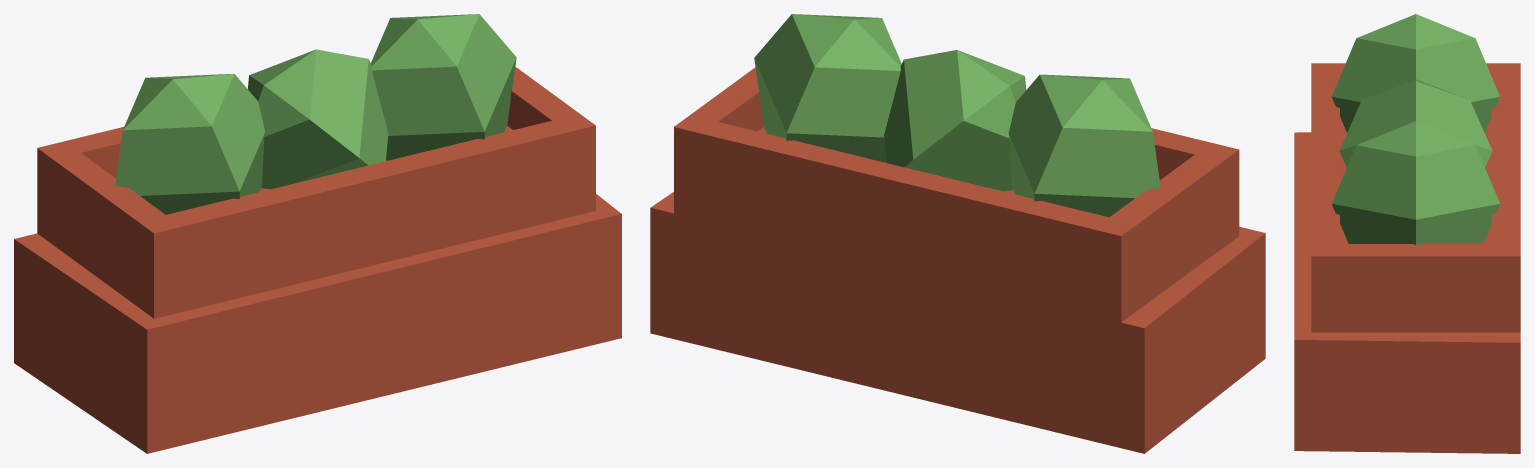
File: Building_Objects_Vase.fbx
3 renders of one model, left to right at view 1: azimuth 30°, elevation 25°; view 2: azimuth 150°, elevation 25°; view 3: azimuth 270°, elevation 25°, orthographic. The views are drawn at different scales.
Visible parts, largest first — view 1: Building_Objects_Vase; view 2: Building_Objects_Vase; view 3: Building_Objects_Vase.
Part boxes in pixels (bbox=[...]): Building_Objects_Vase: bbox=[14, 14, 621, 453]; Building_Objects_Vase: bbox=[650, 14, 1265, 453]; Building_Objects_Vase: bbox=[1294, 14, 1520, 453].
Size of the model in its own units: 133 by 78.69 by 59.58.
